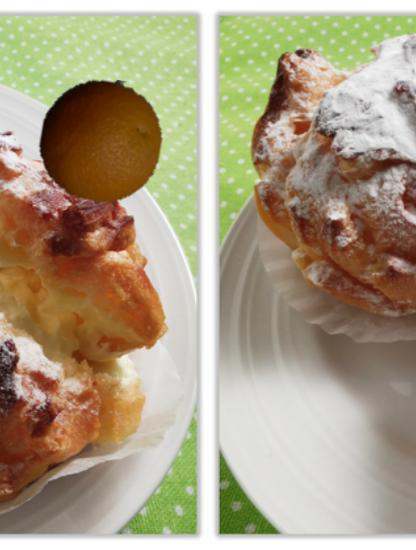Orange: (38, 78, 164, 204)
